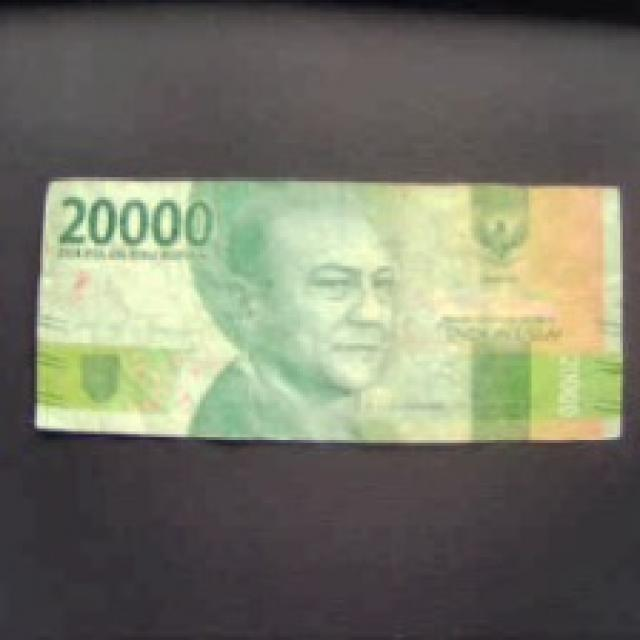dua puluh ribu rupiah: (0, 146, 640, 454)
